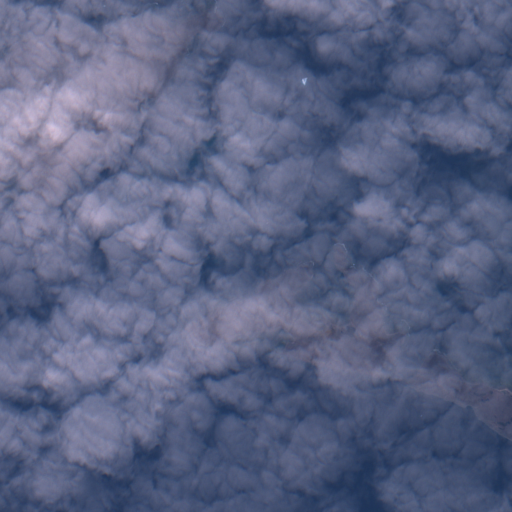Iceberg: (302, 77, 307, 85)
